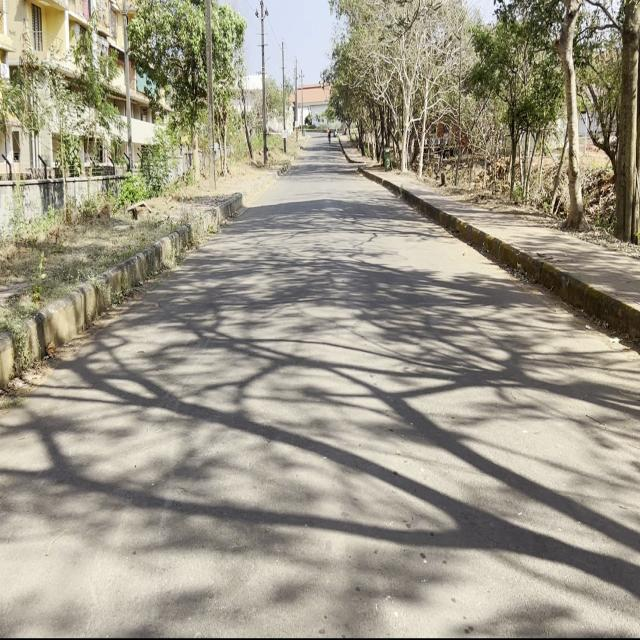Road: (3, 136, 637, 632)
